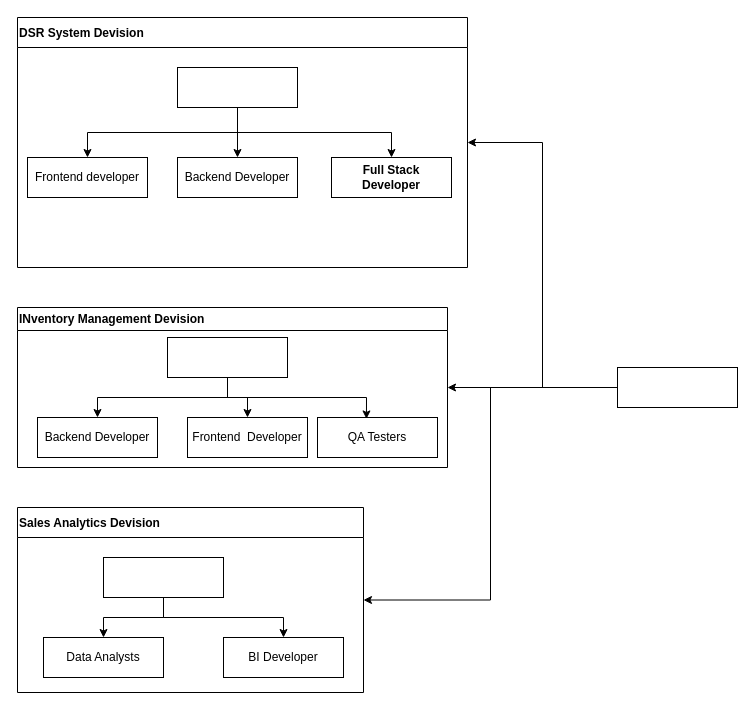
The diagram is 755 pixels wide and 710 high, and some of its shapes have lost their labels. Each missing label, with the centre of its shape:
Chief Executive Officer(CEO): point (677, 387)
Product Manager- DSR: point (237, 87)
Product Manager- Inventory: point (227, 357)
Product Manager- Sales: point (163, 577)
